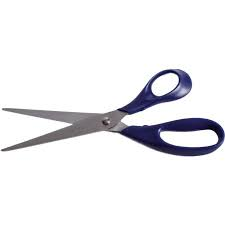tihiras: (3, 66, 225, 176)
